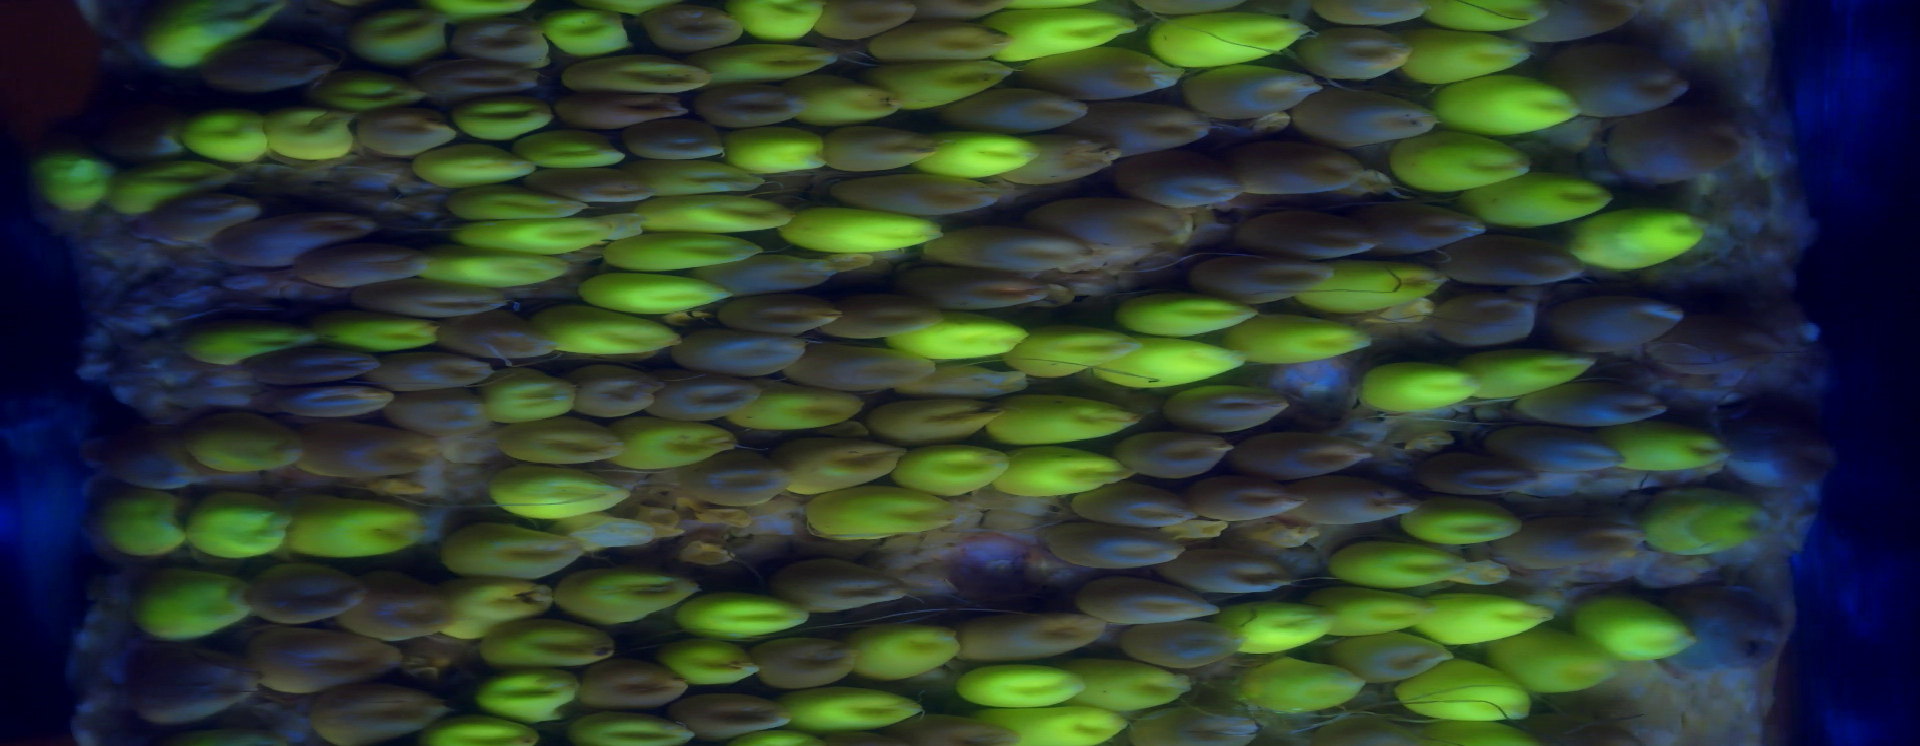fluorescent: (1153, 7, 1302, 69), (1583, 202, 1709, 269), (502, 479, 634, 537), (1435, 78, 1586, 129), (444, 529, 582, 584), (790, 205, 921, 258), (566, 565, 686, 624), (140, 575, 242, 642), (573, 273, 718, 321), (293, 507, 426, 559), (190, 492, 293, 559), (551, 307, 673, 363), (1412, 665, 1538, 718), (1580, 595, 1696, 650), (1002, 10, 1139, 55), (1103, 343, 1242, 387), (683, 589, 803, 639), (1368, 356, 1468, 416), (996, 404, 1138, 446), (1505, 633, 1613, 687), (624, 420, 735, 473), (149, 7, 253, 62), (508, 421, 622, 472), (873, 397, 996, 443), (1648, 501, 1766, 549), (1332, 537, 1460, 581), (782, 437, 910, 481), (478, 624, 624, 661), (1390, 494, 1520, 537), (107, 492, 182, 565), (609, 236, 763, 272), (1124, 292, 1250, 334), (816, 500, 962, 537), (784, 691, 926, 729), (1015, 452, 1128, 500), (1616, 431, 1731, 478), (889, 56, 1009, 100), (1469, 353, 1580, 401), (1240, 310, 1367, 352), (407, 140, 524, 184), (950, 666, 1096, 702), (208, 321, 324, 365), (1248, 657, 1360, 702), (453, 218, 596, 252), (1429, 597, 1550, 637), (915, 321, 1032, 363), (1019, 326, 1127, 371), (1000, 704, 1124, 744), (1329, 263, 1431, 310), (484, 668, 579, 717), (567, 55, 703, 89), (1420, 1, 1556, 36), (709, 50, 842, 85), (355, 13, 448, 62), (1412, 134, 1515, 178), (195, 424, 289, 472), (1495, 179, 1603, 220), (1321, 588, 1425, 631), (1078, 665, 1184, 707), (1224, 601, 1325, 646), (424, 254, 568, 284), (655, 207, 779, 243), (658, 637, 754, 682), (863, 628, 962, 673), (189, 110, 271, 163), (733, 130, 831, 173), (909, 454, 1011, 495), (115, 159, 189, 216), (573, 713, 703, 745), (1409, 36, 1531, 69), (730, 1, 820, 45), (492, 379, 573, 426), (424, 714, 544, 746), (448, 584, 553, 620), (448, 192, 579, 220), (945, 130, 1033, 171), (38, 162, 111, 211), (751, 390, 863, 421), (651, 162, 744, 200), (522, 136, 621, 171), (547, 10, 629, 53), (189, 107, 260, 156), (809, 85, 895, 124), (454, 105, 558, 137), (332, 76, 421, 107), (329, 327, 438, 347)
nonfluorescent: (1560, 37, 1692, 111), (1682, 288, 1768, 382), (1633, 97, 1739, 171), (1309, 88, 1449, 145), (1515, 508, 1638, 571), (129, 655, 255, 717), (213, 37, 344, 94), (1689, 581, 1773, 668), (1444, 239, 1589, 285), (1060, 197, 1199, 246), (1739, 401, 1818, 485), (1554, 289, 1679, 342), (797, 555, 913, 611), (302, 423, 421, 478), (958, 612, 1109, 655), (951, 223, 1087, 271), (320, 682, 438, 736), (264, 630, 399, 675), (1044, 55, 1177, 100), (1173, 539, 1286, 592), (1080, 581, 1209, 626), (1371, 194, 1476, 249), (351, 573, 444, 635), (806, 349, 931, 394), (257, 570, 358, 624), (849, 173, 982, 213), (1499, 429, 1624, 472), (1545, 1, 1664, 45), (1247, 213, 1371, 255), (828, 122, 938, 169), (691, 330, 809, 372), (1058, 524, 1179, 566), (453, 20, 553, 69), (1131, 620, 1237, 666), (1191, 69, 1309, 110), (1538, 383, 1667, 421), (389, 390, 493, 436), (1251, 430, 1368, 472), (1128, 165, 1244, 207), (1250, 145, 1363, 187), (1138, 706, 1256, 746), (722, 298, 838, 339), (416, 60, 531, 100), (1338, 633, 1450, 675), (1296, 36, 1403, 78), (654, 367, 751, 414), (760, 637, 860, 682), (583, 365, 662, 421), (928, 269, 1063, 303), (231, 214, 361, 249), (1210, 254, 1309, 298), (1087, 488, 1189, 530), (444, 311, 547, 353), (153, 192, 250, 236), (1109, 104, 1209, 147), (555, 92, 673, 127), (1129, 431, 1224, 475), (1442, 294, 1529, 341), (726, 263, 844, 296), (966, 94, 1084, 127), (316, 243, 409, 284), (373, 287, 500, 317), (682, 695, 784, 733), (1209, 481, 1300, 523), (384, 352, 490, 387), (113, 436, 193, 481), (1176, 387, 1292, 418), (553, 168, 650, 205), (816, 1, 909, 39), (637, 118, 721, 159), (1033, 143, 1120, 184), (699, 462, 784, 502), (364, 110, 451, 149), (1319, 488, 1400, 529), (591, 666, 686, 702), (261, 350, 380, 379), (838, 305, 929, 341), (653, 9, 737, 47), (1424, 453, 1516, 488), (697, 94, 797, 124), (276, 390, 389, 413), (945, 358, 1021, 392)
